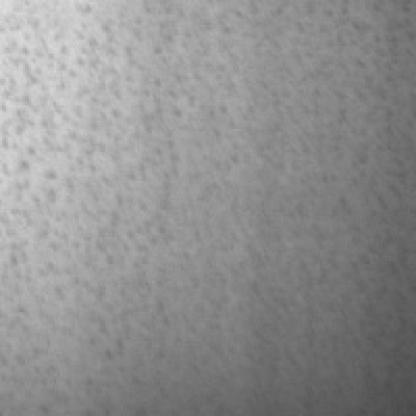pitted_surface: (0, 0, 412, 408)
